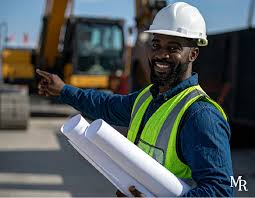Casco de seguridad: (144, 2, 207, 45)
